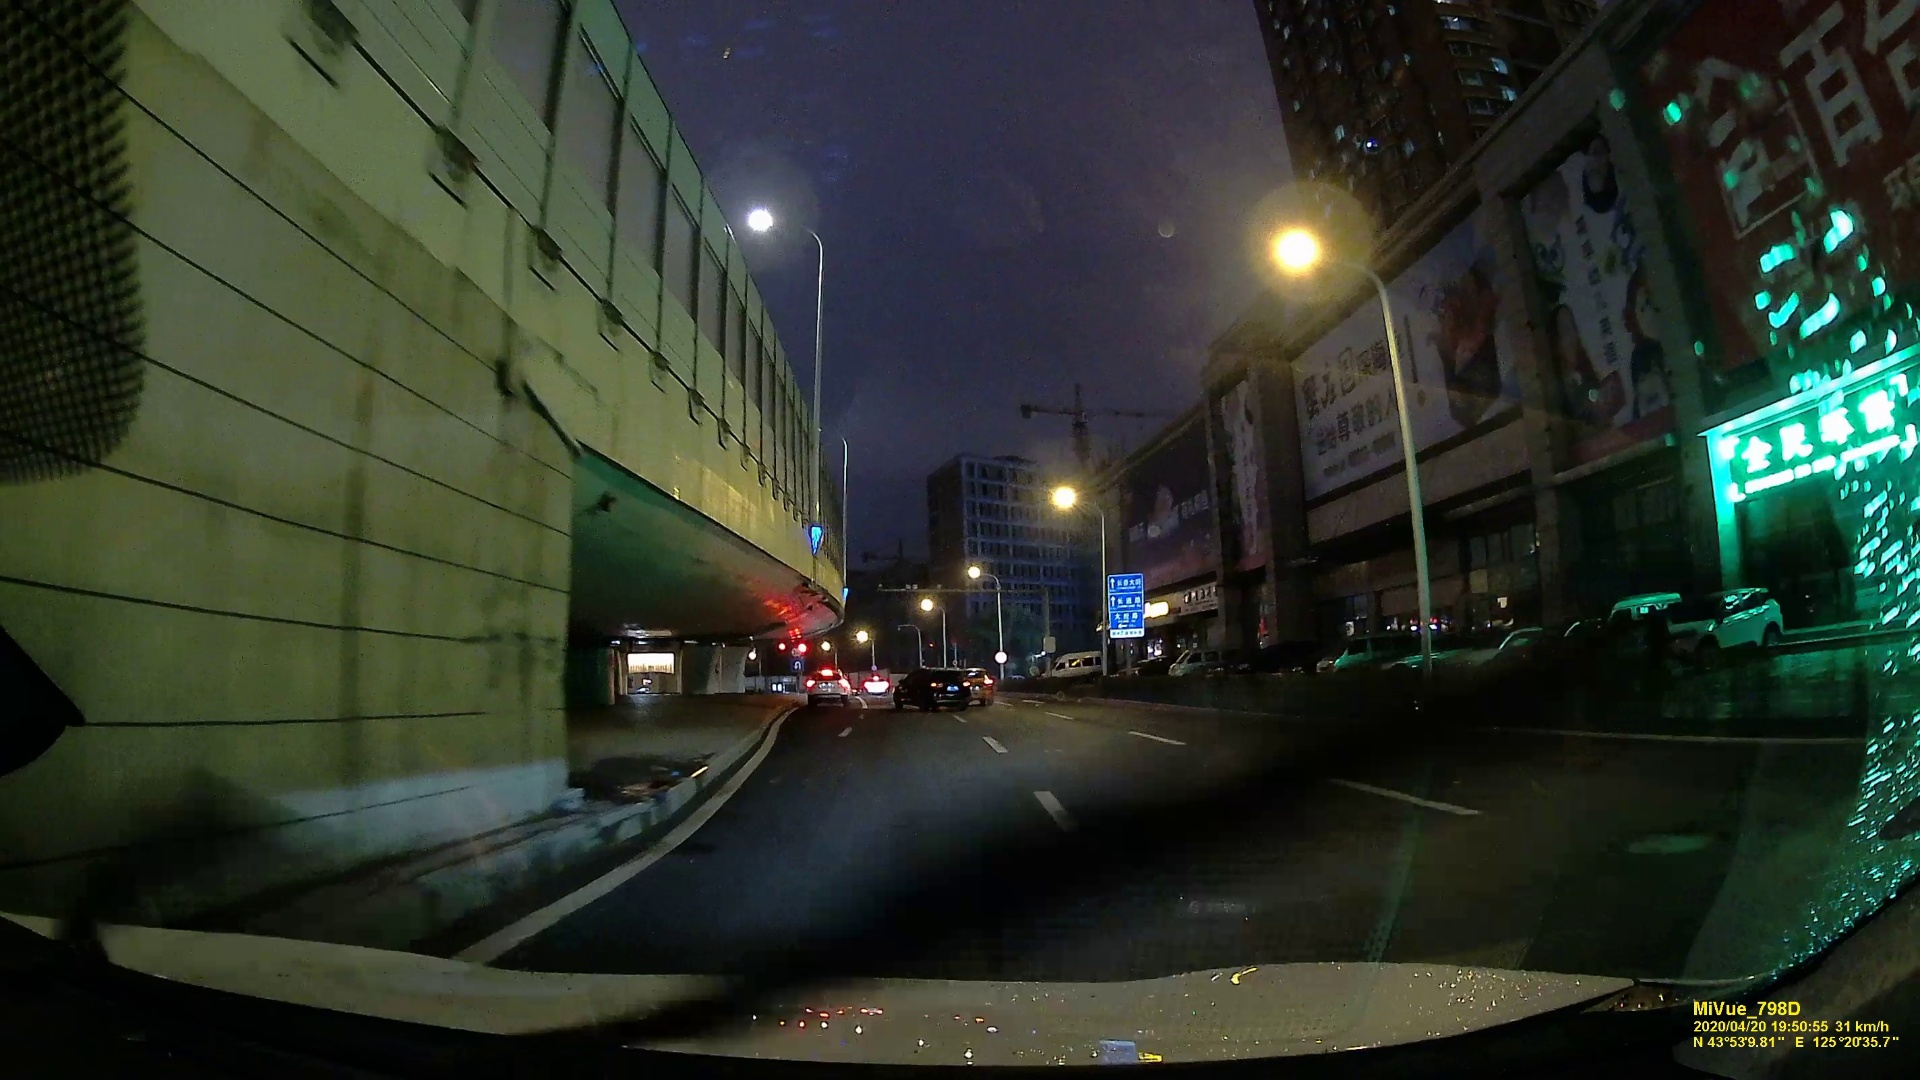person: (1638, 597, 1675, 691), (1315, 636, 1381, 675), (1045, 650, 1103, 678), (1169, 647, 1219, 678)
traffic_sign: (1109, 575, 1144, 634)
vehicle: (891, 666, 972, 711), (805, 667, 852, 706)
